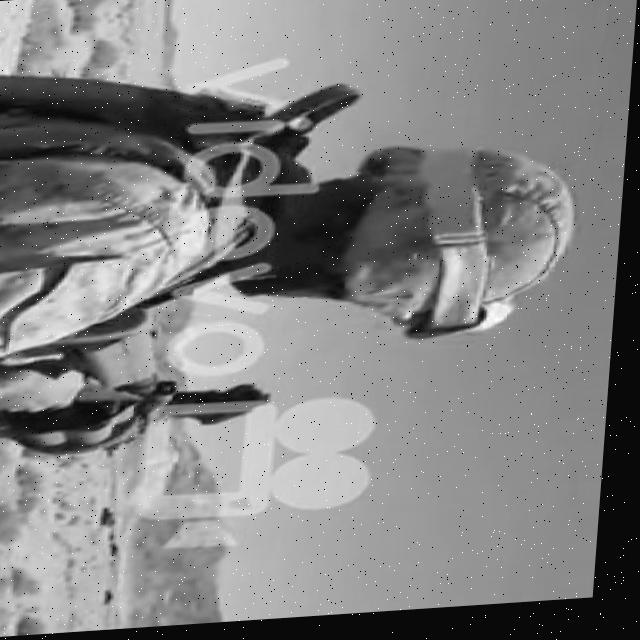rocket: (0, 304, 291, 466)
